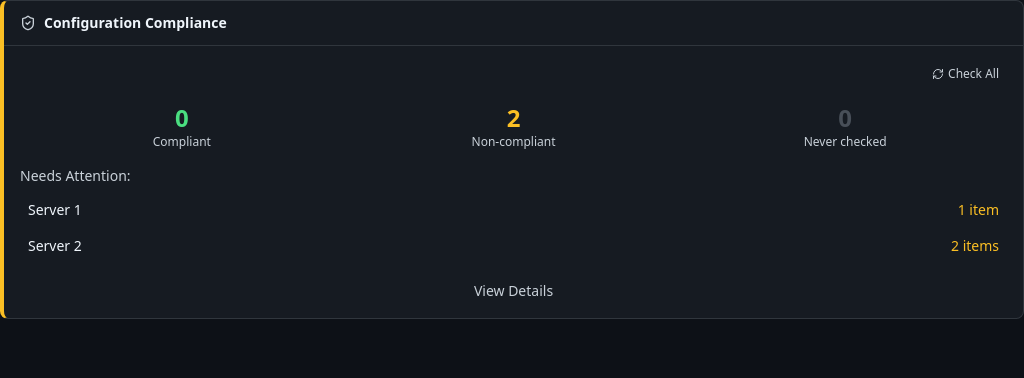
Test case: ComplianceWidget › Check All button (AC6) › shows progress during Check All
The width and height of the screenshot is (1024, 378).
Click the button with test id "compliance-check-all" at (966, 74), box [924,62,1007,86]
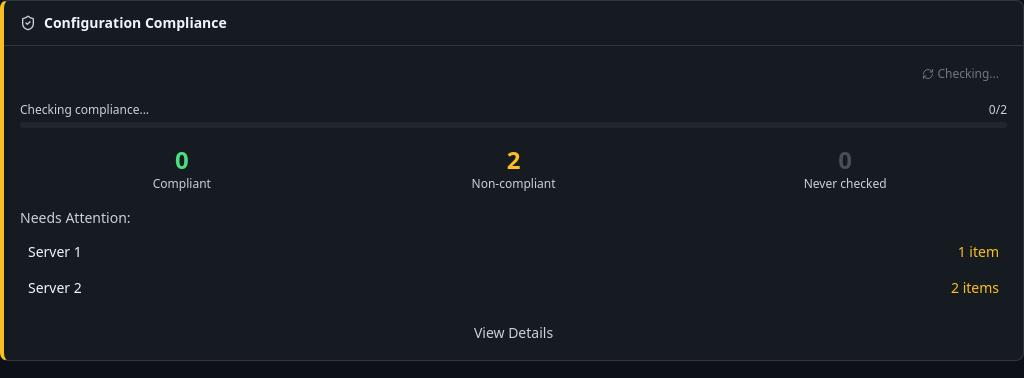
Check: the element with test id "compliance-progress" is shown, box [20,102,1007,128]
